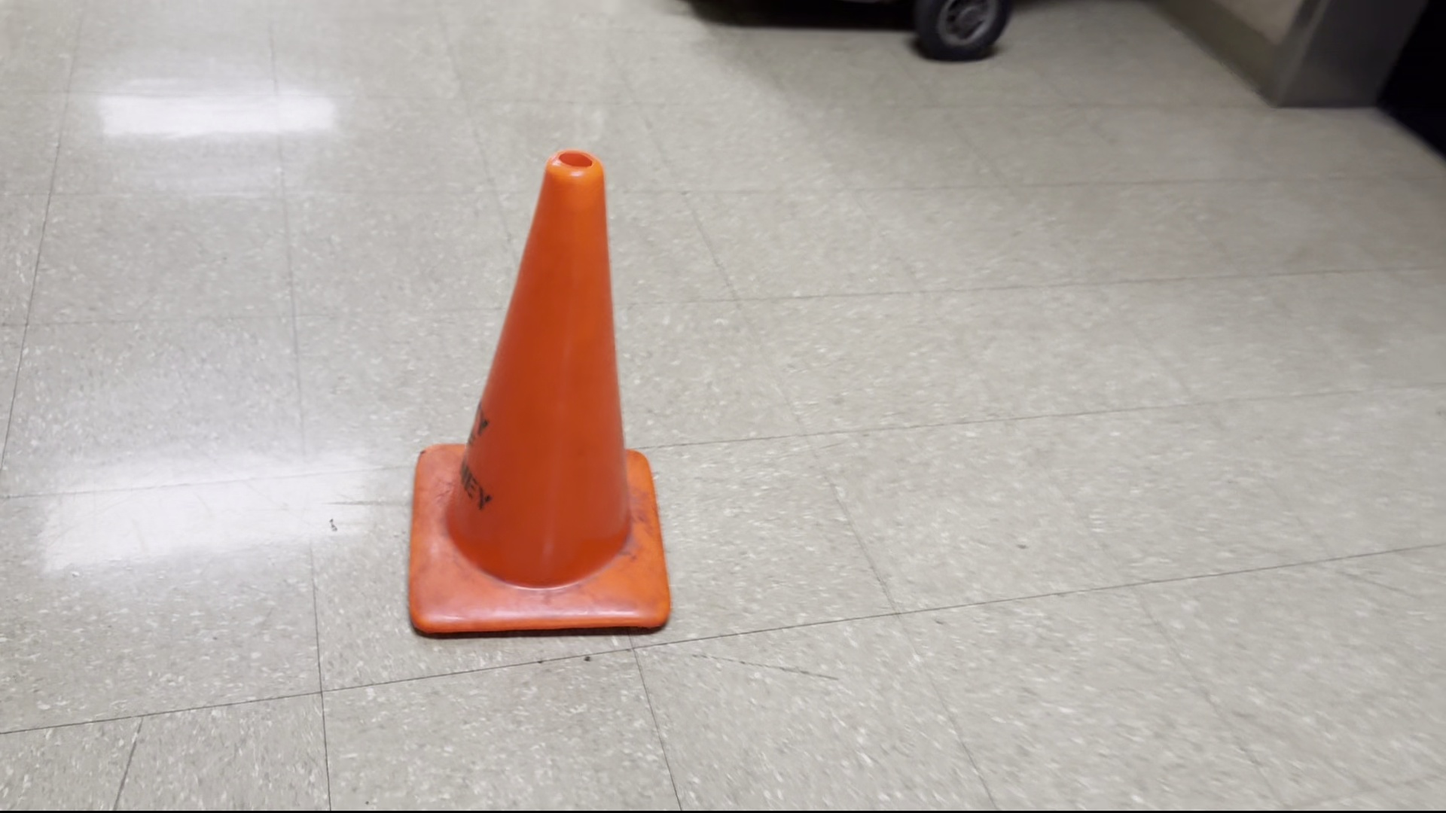traffic_cone: (406, 147, 672, 638)
